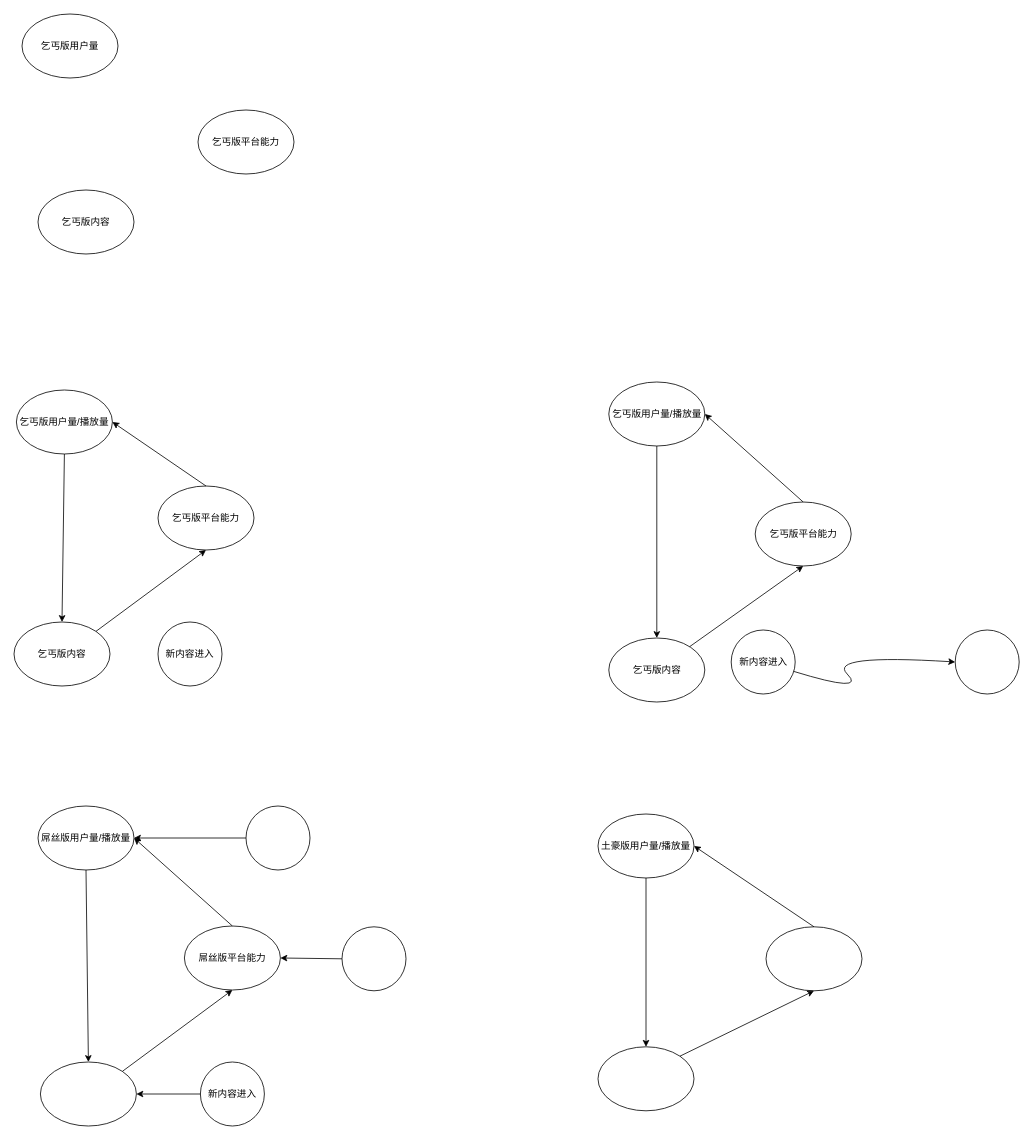
This 1034x1140 diagram has some shape labels left out. The centre of each missing label's shape, as x and y in pixels:
"土豪版内容" belongs at pixel 645 1078.
"土豪版平台能力" belongs at pixel 813 958.
"屌丝版内容" belongs at pixel 88 1093.
"新匹配能力" belongs at pixel 373 958.
"新用户增长" belongs at pixel 277 837.
"流失" belongs at pixel 986 661.
